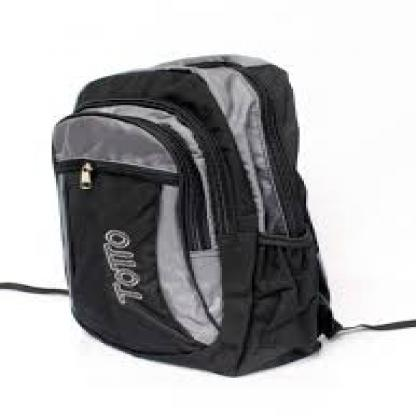morral: (2, 2, 414, 382)
